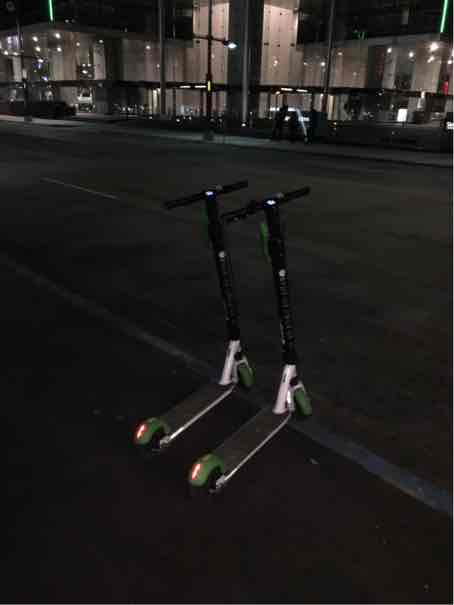too close: (207, 343, 269, 405), (263, 367, 325, 429)
